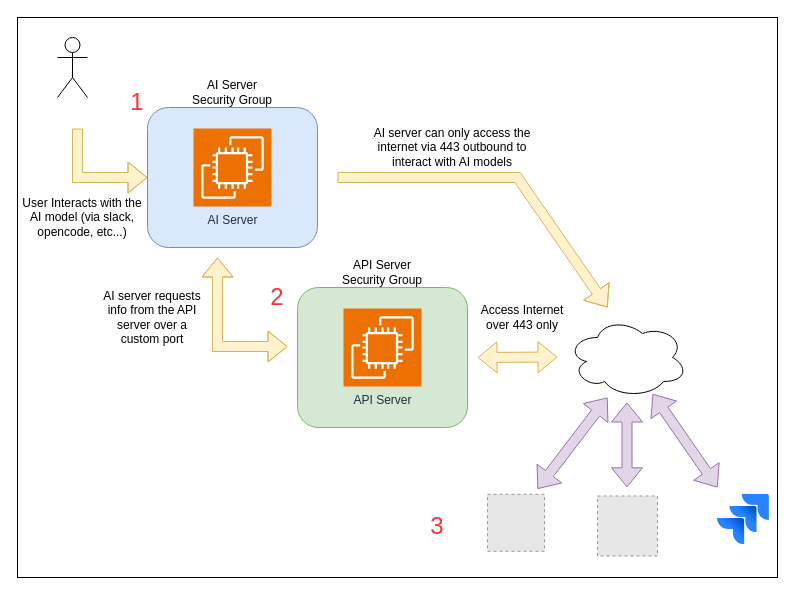
This 795x595 diagram has some shape labels left out. Grey dashed boxes stand in for pictures. Here are the shapes that lost their labels. From the top down, the centre of each, then its label:
At point 72,67: "User".
At point 627,357: "Internet".
